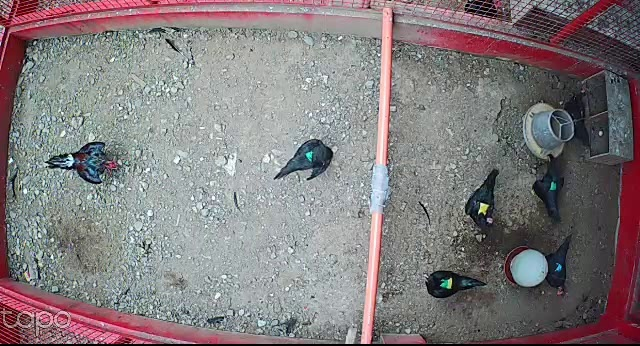Chicken: (273, 138, 332, 182), (465, 168, 502, 236), (532, 149, 563, 224), (543, 231, 574, 300), (424, 268, 489, 299), (563, 91, 593, 147)
Drinker: (503, 247, 547, 290)
Feeder: (524, 105, 575, 158)
Rooster: (43, 137, 122, 186)
Saddle_Color_Blue: (554, 259, 563, 272)
Saddle_Color_Yellow: (474, 202, 490, 217)
Saddle_Color_YellowGreen: (438, 276, 452, 288)
